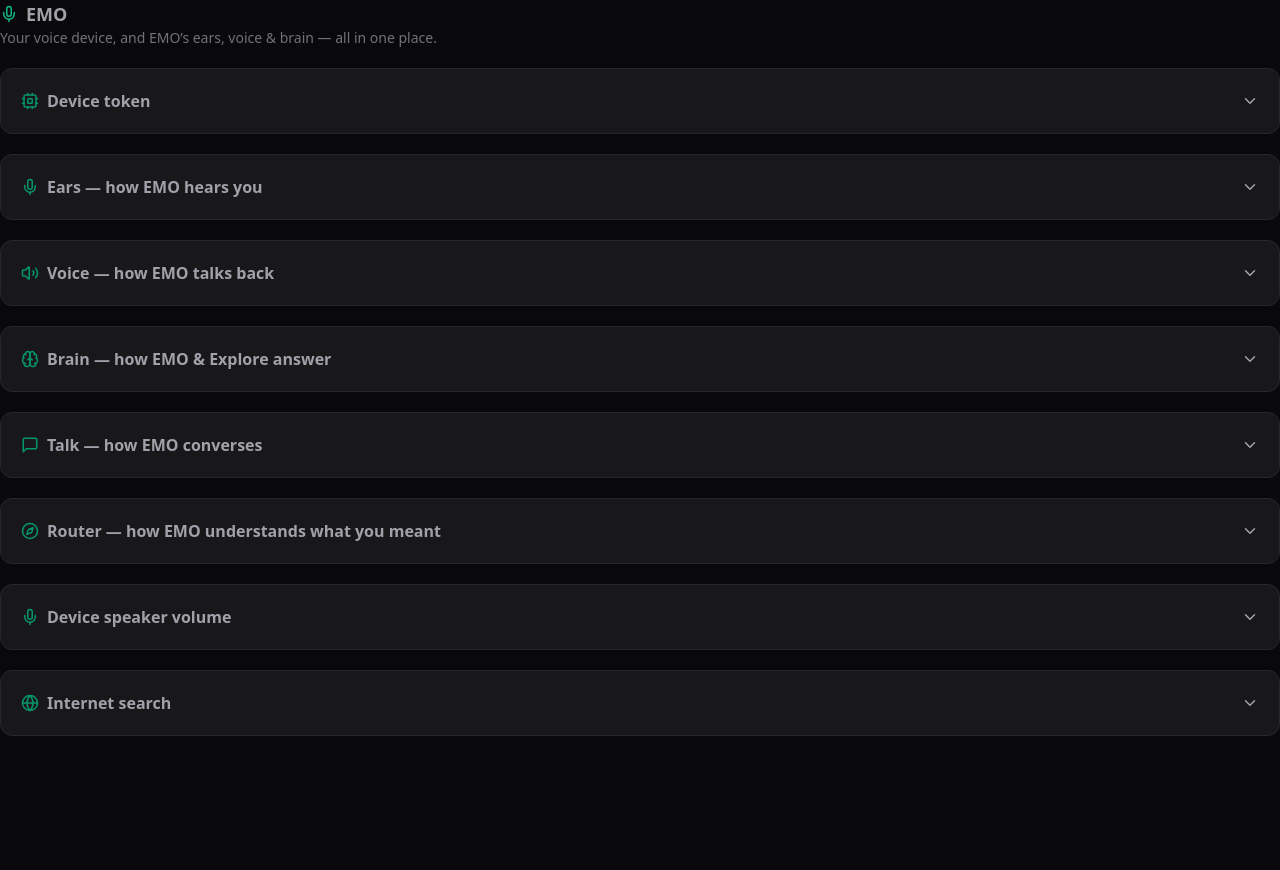
Test case: Settings → EMO → Device token (DEVICE-TOKEN-ROTATION) › says the old key was last used, how many requests, and offers Revoke now
Click the button "Device token".
click(99, 101)  # box [1,69,1279,133]
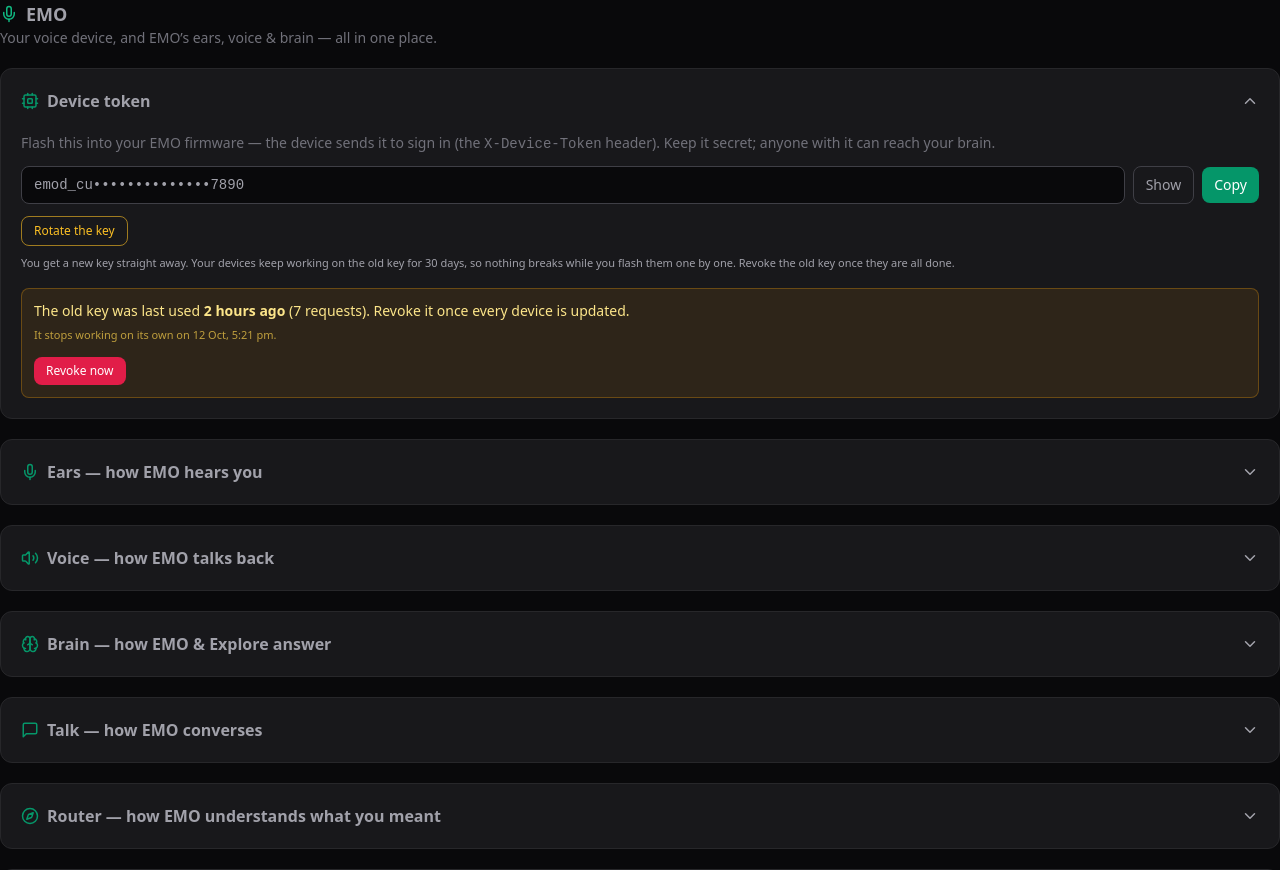
Check: the element with test id "device-token-previous" shows "The old key was last used", box [34,301,204,320]
Check: the element with test id "device-token-previous" shows "2 hours ago", box [204,301,286,320]
Check: the element with test id "device-token-previous" shows "(7 requests)", box [21,288,1259,398]
